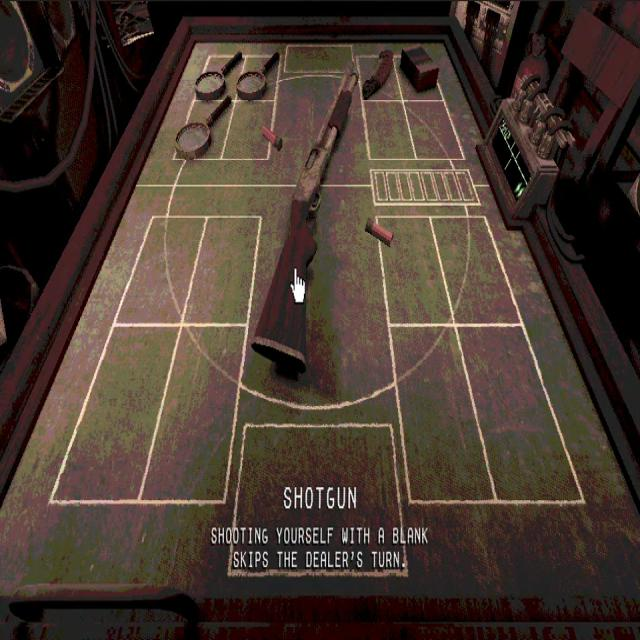ally: (0, 179, 639, 608)
cigar: (399, 47, 439, 92)
doubledamage: (361, 51, 393, 99)
emptyspace: (53, 324, 178, 503), (460, 323, 584, 503), (141, 321, 245, 503), (389, 324, 495, 499), (114, 212, 205, 324), (434, 216, 521, 324), (375, 215, 453, 324), (185, 215, 261, 324), (362, 102, 416, 158), (405, 103, 461, 156), (222, 102, 274, 157)
enemyspace: (140, 41, 491, 175)
gun: (253, 61, 357, 372)
lens: (175, 98, 227, 156), (193, 51, 243, 99), (236, 58, 292, 92)
